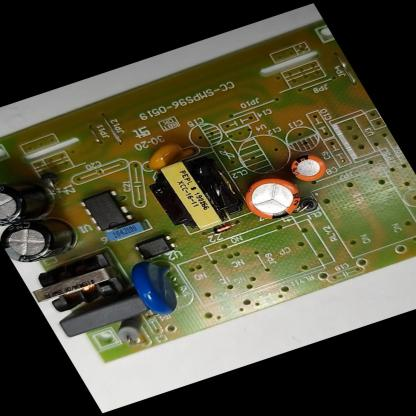Cap1: (236, 171, 312, 227)
Cap2: (282, 149, 335, 186)
Cap3: (0, 210, 86, 270)
Cap4: (0, 169, 62, 230)
MOSFET: (77, 188, 136, 234)
Mov: (123, 254, 199, 320)
Resistor: (110, 313, 155, 346)
Transformer: (140, 150, 249, 238), (22, 249, 132, 321)
